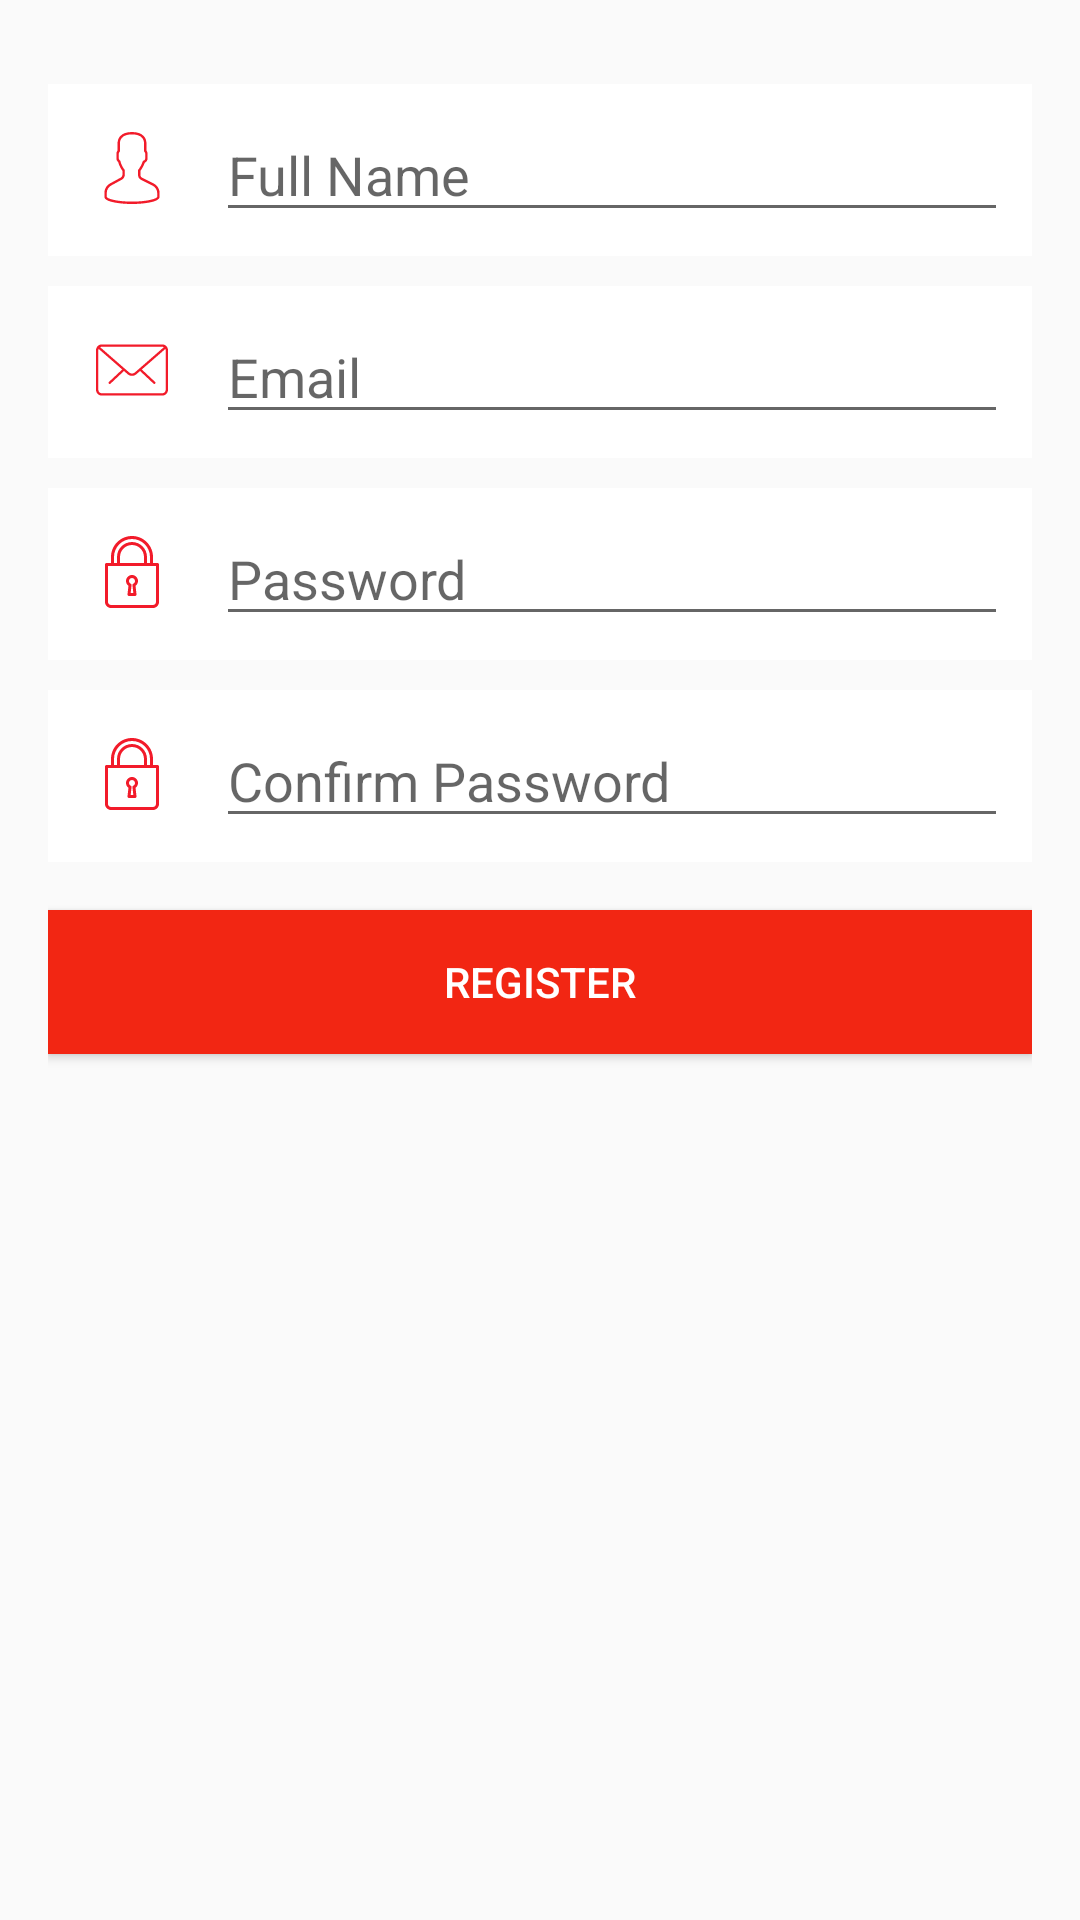

Icon bounding boxes for this 1080*1920 phone screenshot, format (x1, y1, x2, y2):
lock: (105, 536, 159, 608), (105, 738, 159, 810)
user: (104, 132, 160, 204)
